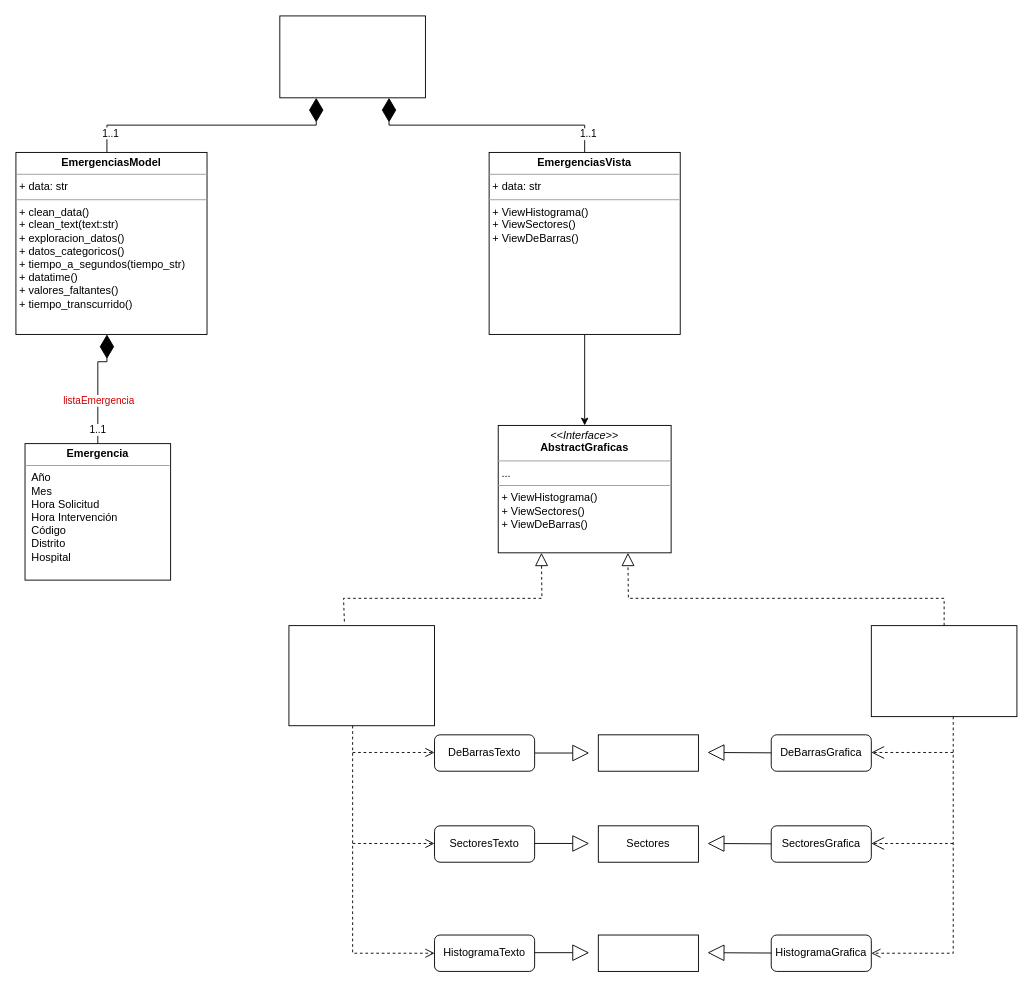
Some shapes in this 1033 by 987 pixel diagram are drawn without their labels. Here are the shapes that lost their labels. From the top down, the centre of each, then its label:
At (352,56): "EmergenciasController + field: Type + method(): Type".
At (361,675): "Texto + field: Type + ViewHistograma() + ViewSectores() + ViewDeBarras()".
At (943,671): "Grafica + field: Type + ViewHistograma() + ViewSectores() + ViewDeBarras()".
At (647,752): "DeBarras".
At (647,952): "Histograma".
